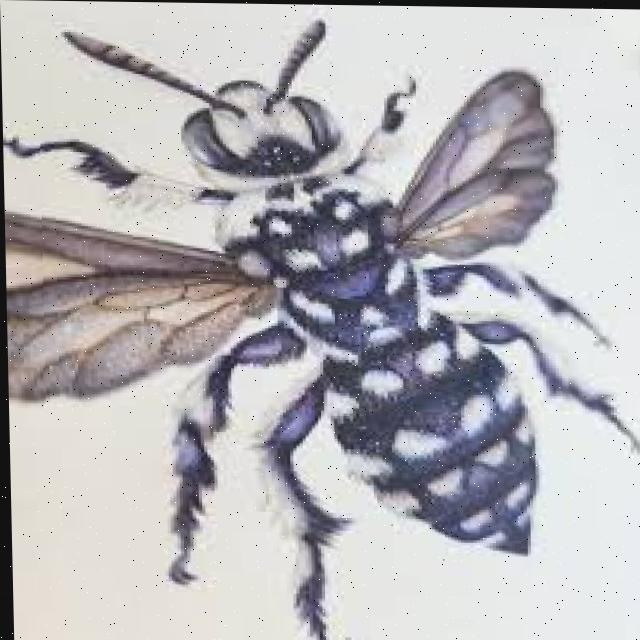Thyreus: (37, 6, 618, 601)
